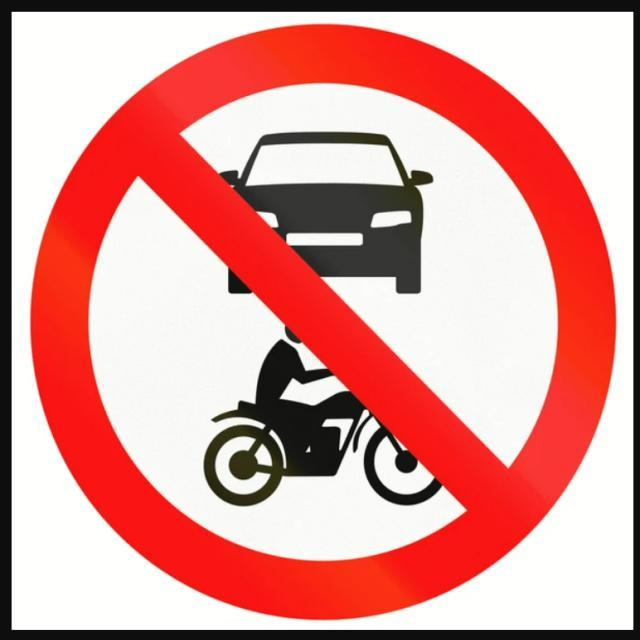all motor vehicle prohibited: (31, 23, 616, 613)
